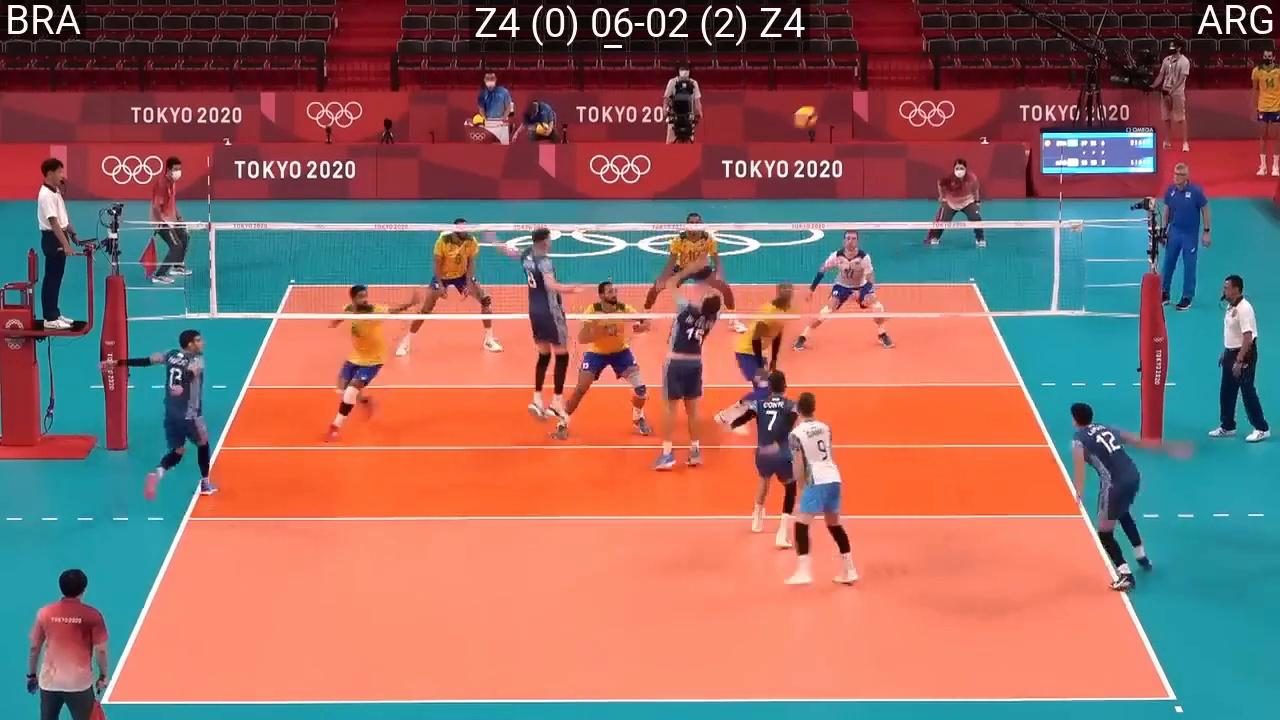ball: (794, 105, 819, 129)
